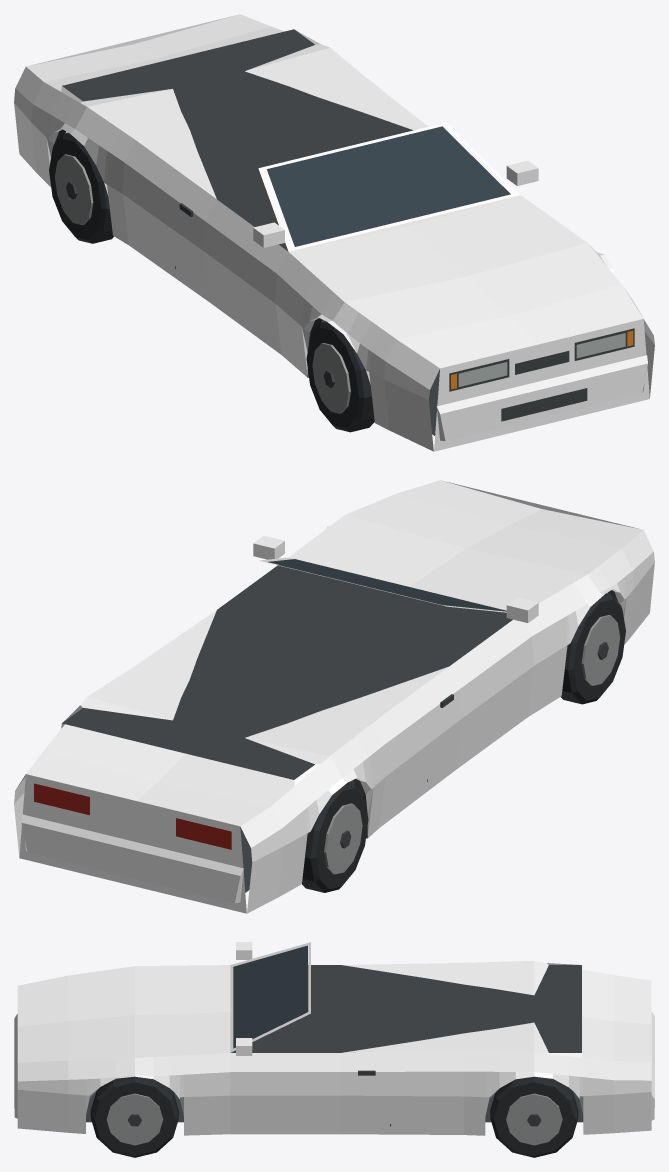
Rendered from whitlock_switchback_gts.glb.
3 views of the same model, one above another, from view 1: azimuth 30°, elevation 25°; view 2: azimuth 150°, elevation 25°; view 3: azimuth 270°, elevation 25° (orthographic). The views are drawn at different scales.
Visible parts, largest first — view 1: whitlock_switchback_gts; view 2: whitlock_switchback_gts; view 3: whitlock_switchback_gts.
Part boxes in pixels (x1,y1,x2,y2): whitlock_switchback_gts: (14,14,654,451); whitlock_switchback_gts: (14,480,654,913); whitlock_switchback_gts: (14,942,654,1157).
Bounding box in the file's own units: 1.82 × 1.06 × 4.7.
Materials: 8 (1 with a texture image).
